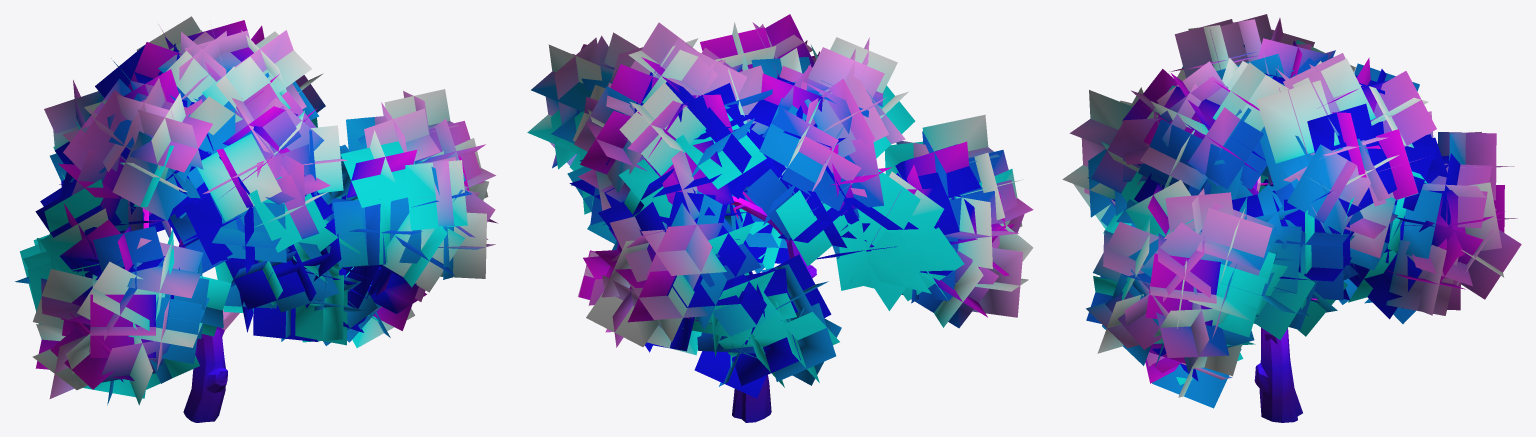
Rendered from Fruit_Tree.fbx.
The picture shows the model from 3 angles, left to right: view 1: azimuth 30°, elevation 25°; view 2: azimuth 150°, elevation 25°; view 3: azimuth 270°, elevation 25°; orthographic projection. The views are drawn at different scales.
Parts seen in each view (by area): view 1: PT_Fruit_Tree_01_green_cut (4); view 2: PT_Fruit_Tree_01_green_cut (4); view 3: PT_Fruit_Tree_01_green_cut (4).
Boxes of the visible parts, x1,y1,x2,y2 form: PT_Fruit_Tree_01_green_cut (4): (15,16,497,422); PT_Fruit_Tree_01_green_cut (4): (527,14,1033,422); PT_Fruit_Tree_01_green_cut (4): (1062,14,1521,422).
Bounding box in the file's own units: 881 × 680 × 752.
